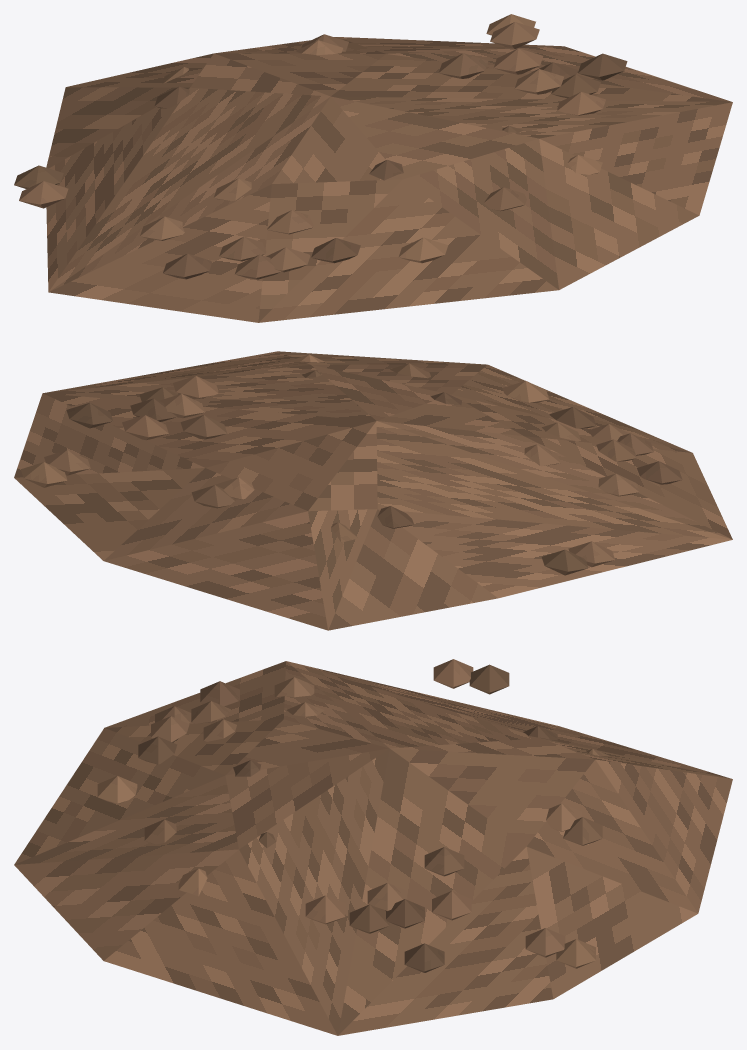
The model's file is dogfood_dry.glb.
3 views of the same model, one above another, from view 1: azimuth 30°, elevation 25°; view 2: azimuth 150°, elevation 25°; view 3: azimuth 270°, elevation 25° (orthographic). The views are drawn at different scales.
Visible parts, largest first — view 1: block_loose dry ingredients, block_loose grain 0, block_loose grain 3, block_loose grain 6, block_loose grain 9, block_loose grain 13, block_loose grain 16, block_loose grain 10, block_loose grain 27, block_loose grain 24, block_loose grain 23, block_loose grain 5 (+9 smaller); view 2: block_loose dry ingredients, block_loose grain 2, block_loose grain 3, block_loose grain 19, block_loose grain 9, block_loose grain 13, block_loose grain 6, block_loose grain 23, block_loose grain 27, block_loose grain 0, block_loose grain 16, block_loose grain 10 (+9 smaller); view 3: block_loose dry ingredients, block_loose grain 3, block_loose grain 13, block_loose grain 6, block_loose grain 23, block_loose grain 9, block_loose grain 2, block_loose grain 0, block_loose grain 17, block_loose grain 10, block_loose grain 19, block_loose grain 22 (+9 smaller).
Boxes of the visible parts, x1=… form: block_loose dry ingredients: x1=46, y1=37, x2=732, y2=322; block_loose grain 0: x1=19, y1=181, x2=68, y2=208; block_loose grain 3: x1=578, y1=53, x2=627, y2=80; block_loose grain 6: x1=490, y1=22, x2=539, y2=48; block_loose grain 9: x1=494, y1=48, x2=543, y2=74; block_loose grain 13: x1=439, y1=53, x2=488, y2=78; block_loose grain 16: x1=514, y1=69, x2=563, y2=94; block_loose grain 10: x1=399, y1=237, x2=448, y2=263; block_loose grain 27: x1=163, y1=253, x2=211, y2=279; block_loose grain 24: x1=311, y1=238, x2=360, y2=263; block_loose grain 23: x1=557, y1=92, x2=605, y2=115; block_loose grain 5: x1=219, y1=236, x2=266, y2=261; block_loose dry ingredients: x1=14, y1=351, x2=732, y2=630; block_loose grain 2: x1=541, y1=549, x2=588, y2=575; block_loose grain 3: x1=66, y1=402, x2=112, y2=428; block_loose grain 19: x1=21, y1=462, x2=67, y2=487; block_loose grain 9: x1=122, y1=415, x2=168, y2=440; block_loose grain 13: x1=180, y1=415, x2=227, y2=439; block_loose grain 6: x1=44, y1=450, x2=90, y2=475; block_loose grain 23: x1=173, y1=376, x2=218, y2=398; block_loose grain 27: x1=637, y1=461, x2=682, y2=484; block_loose grain 0: x1=568, y1=541, x2=614, y2=567; block_loose grain 16: x1=159, y1=393, x2=204, y2=418; block_loose grain 10: x1=502, y1=381, x2=549, y2=402; block_loose dry ingredients: x1=14, y1=661, x2=732, y2=1035; block_loose grain 3: x1=404, y1=943, x2=444, y2=972; block_loose grain 13: x1=424, y1=847, x2=464, y2=876; block_loose grain 6: x1=525, y1=928, x2=565, y2=957; block_loose grain 23: x1=305, y1=895, x2=345, y2=924; block_loose grain 9: x1=432, y1=891, x2=471, y2=920; block_loose grain 2: x1=469, y1=664, x2=509, y2=694; block_loose grain 0: x1=433, y1=659, x2=473, y2=688; block_loose grain 17: x1=349, y1=904, x2=389, y2=933; block_loose grain 10: x1=97, y1=776, x2=137, y2=804; block_loose grain 19: x1=556, y1=939, x2=595, y2=968; block_loose grain 22: x1=385, y1=899, x2=424, y2=928.
Bounding box in the file's own units: 0.0968 × 0.0105 × 0.0784.
Materials: 1 (1 with a texture image).
